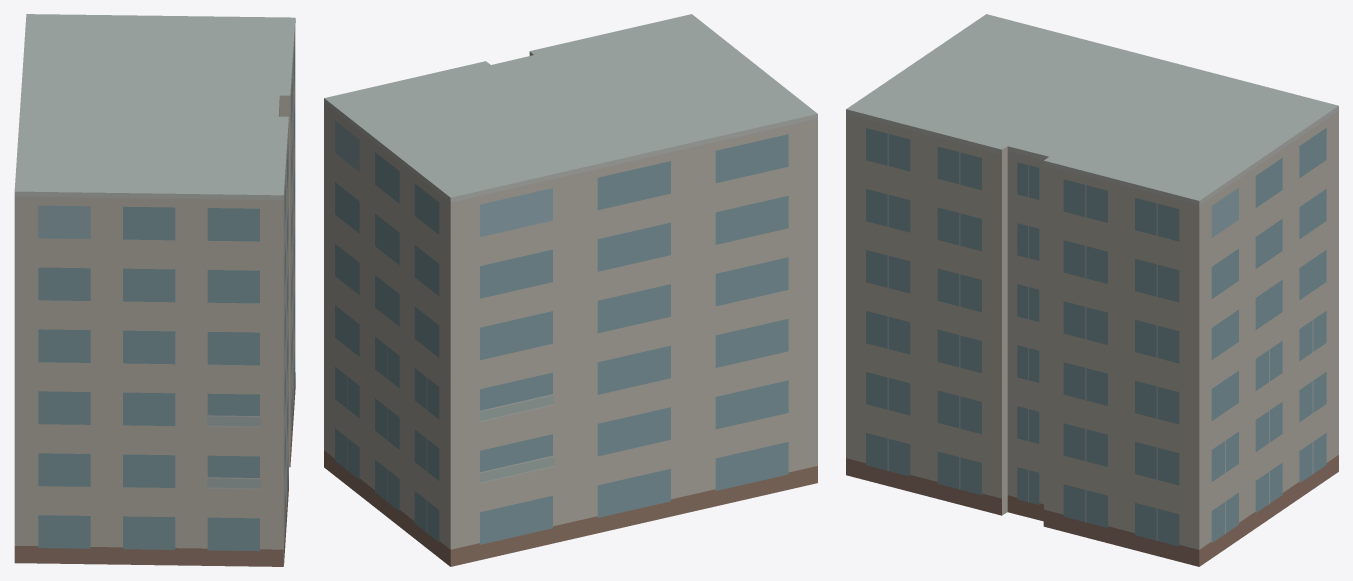
Rendered from survey-upis-32707435.glb.
3 views of the same model, side by side, from view 1: azimuth 30°, elevation 25°; view 2: azimuth 150°, elevation 25°; view 3: azimuth 270°, elevation 25° (orthographic).
Visible parts, largest first — view 1: survey-upis-32707435.tmp; view 2: survey-upis-32707435.tmp; view 3: survey-upis-32707435.tmp.
Part boxes in pixels (bbox=[...]): survey-upis-32707435.tmp: bbox=[14, 14, 295, 566]; survey-upis-32707435.tmp: bbox=[324, 14, 817, 566]; survey-upis-32707435.tmp: bbox=[846, 14, 1338, 566].
Size of the model in its own units: 20.38 by 18.6 by 22.7.
